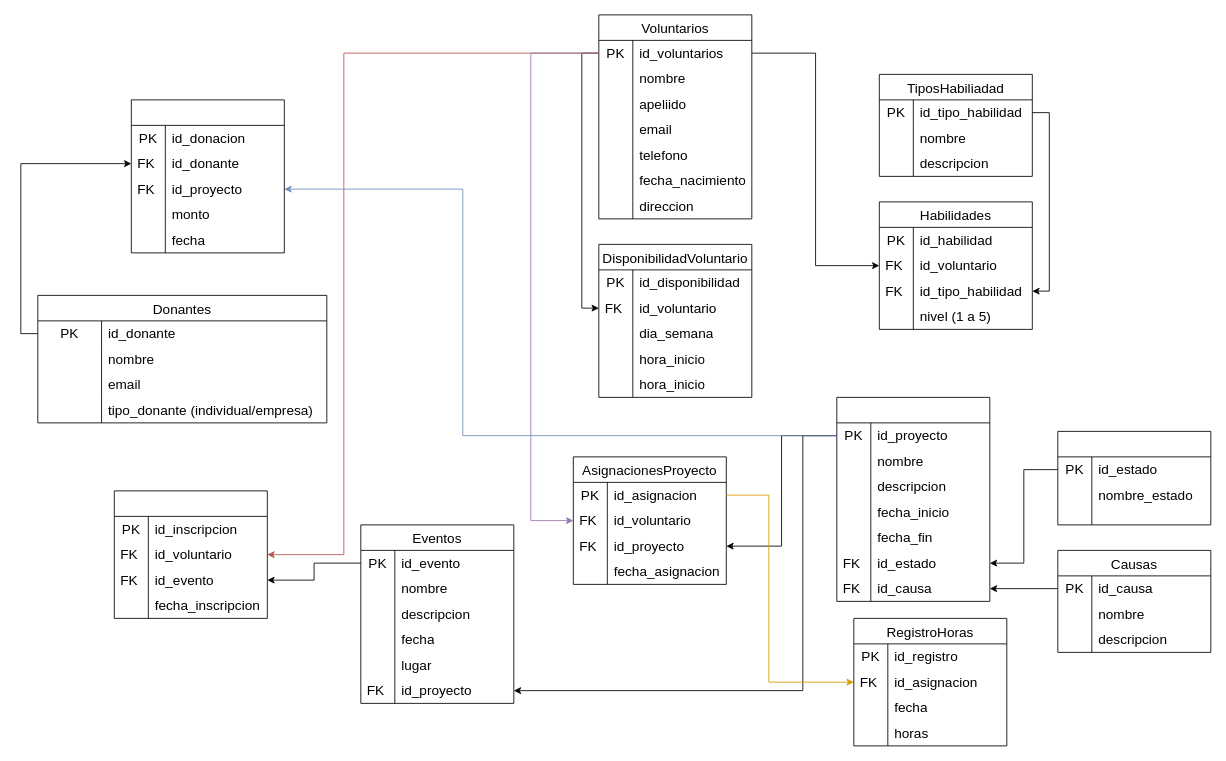
The diagram is 1226 pixels wide and 761 high, and some of its shapes have lost their labels. The shapes that lost their labels are listed below. From the top down, each one's box as (x1, y1, x2, y2) in pixels, then its label:
(130, 99, 284, 253): Donaciones
(1057, 431, 1211, 525): EstadosProyecto
(836, 397, 990, 601): Proyectos
(113, 490, 267, 618): InscripcionesEvento
